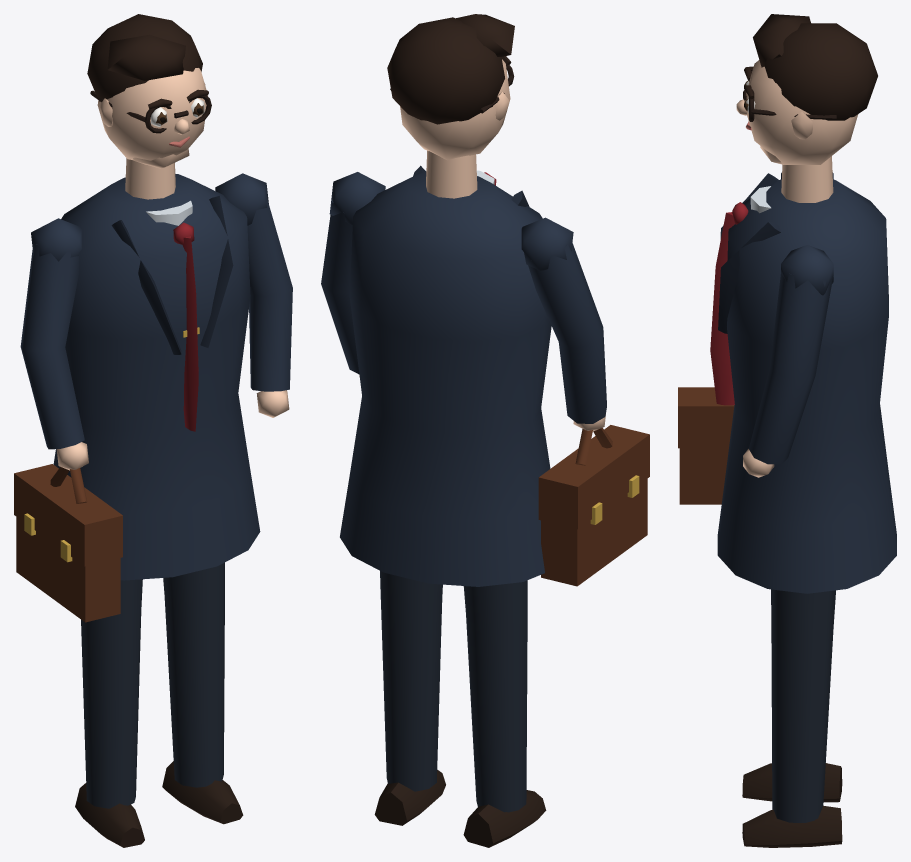
Rendered from char_dad.glb.
The picture shows the model from 3 angles, left to right: view 1: azimuth 30°, elevation 25°; view 2: azimuth 150°, elevation 25°; view 3: azimuth 270°, elevation 25°; orthographic projection.
Parts seen in each view (by area): view 1: char_dad; view 2: char_dad; view 3: char_dad.
Boxes of the visible parts, x1,y1,x2,y2 form: char_dad: [14, 14, 292, 847]; char_dad: [321, 14, 649, 847]; char_dad: [678, 14, 896, 847].
Bounding box in the file's own units: 0.6457 × 1.8 × 0.4503.
